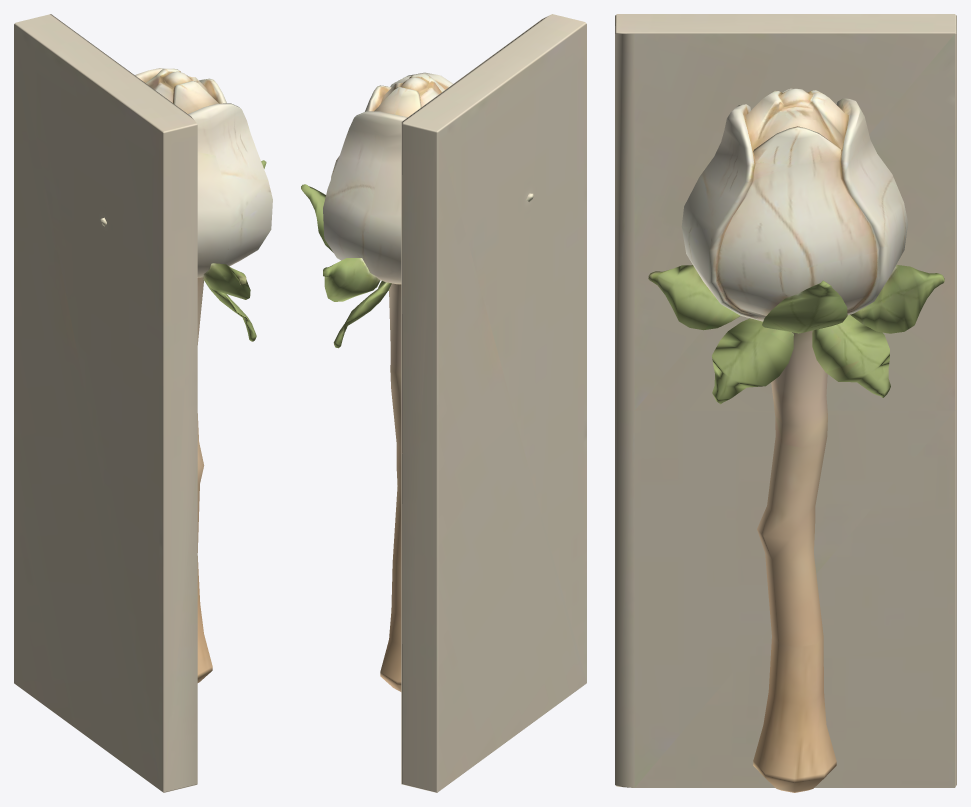
Rendered from hammer_epic_spring_verdant_ivory.glb.
3 renders of one model, left to right at view 1: azimuth 30°, elevation 25°; view 2: azimuth 150°, elevation 25°; view 3: azimuth 270°, elevation 25°, orthographic. The views are drawn at different scales.
Visible parts, largest first — view 1: tripo_node_0b5fa0f3-8ef6-4559-95b8-a2d93296ad0e; view 2: tripo_node_0b5fa0f3-8ef6-4559-95b8-a2d93296ad0e; view 3: tripo_node_0b5fa0f3-8ef6-4559-95b8-a2d93296ad0e.
Boxes of the visible parts, bbox=[...] form: tripo_node_0b5fa0f3-8ef6-4559-95b8-a2d93296ad0e: bbox=[14, 14, 272, 792]; tripo_node_0b5fa0f3-8ef6-4559-95b8-a2d93296ad0e: bbox=[301, 14, 586, 792]; tripo_node_0b5fa0f3-8ef6-4559-95b8-a2d93296ad0e: bbox=[615, 14, 956, 792].
Bounding box in the file's own units: 0.4398 × 1.4 × 0.5752.
1 material, 1 textured.
